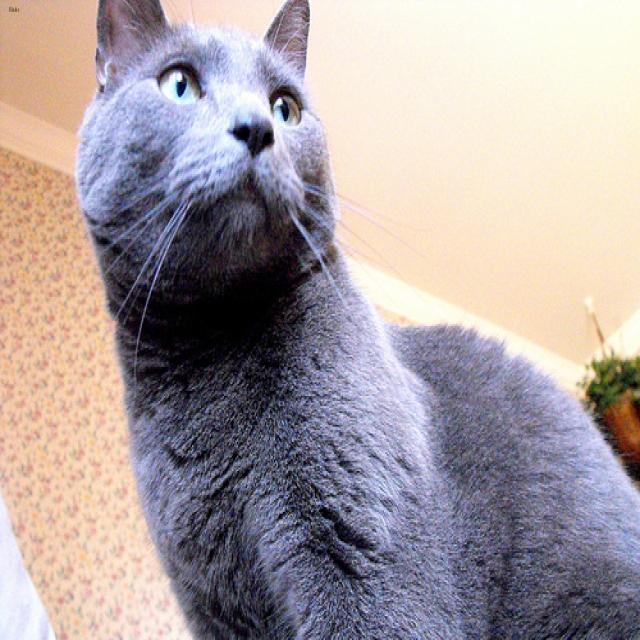Russian_Blue: (94, 0, 325, 251)
